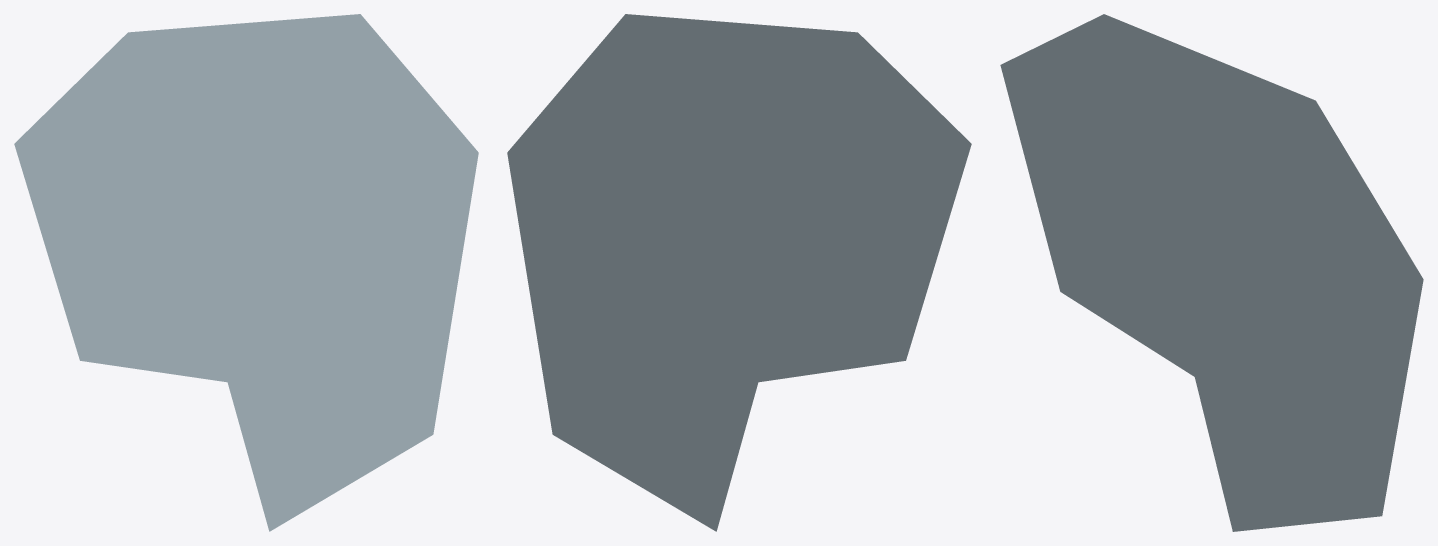
3 views of the same model, side by side, from view 1: azimuth 30°, elevation 25°; view 2: azimuth 150°, elevation 25°; view 3: azimuth 330°, elevation 25° (orthographic). The views are drawn at different scales.
Visible parts, largest first — view 1: pCube16; view 2: pCube16; view 3: pCube16.
Boxes of the visible parts, x1,y1,x2,y2 form: pCube16: (14,14,478,531); pCube16: (507,14,971,531); pCube16: (1000,14,1423,531).
Size of the model in its own units: 49.91 by 54.82 by 0.
